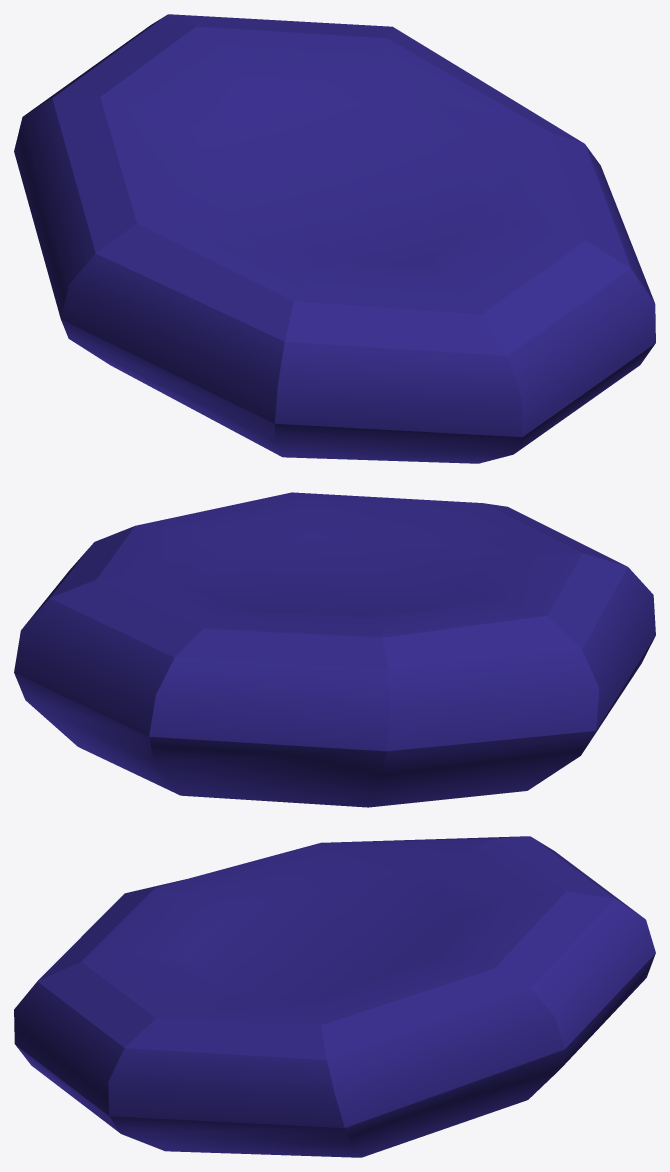
Rendered from Red Blood Cell.fbx.
3 views of the same model, one above another, from view 1: azimuth 30°, elevation 25°; view 2: azimuth 150°, elevation 25°; view 3: azimuth 270°, elevation 25° (orthographic). The views are drawn at different scales.
Parts seen in each view (by area): view 1: pCylinder1; view 2: pCylinder1; view 3: pCylinder1.
Part boxes in pixels (<box>): pCylinder1: <box>14,14,655,463</box>; pCylinder1: <box>14,492,655,807</box>; pCylinder1: <box>14,836,655,1157</box>.
Size of the model in its own units: 11.82 by 5.26 by 14.31.
